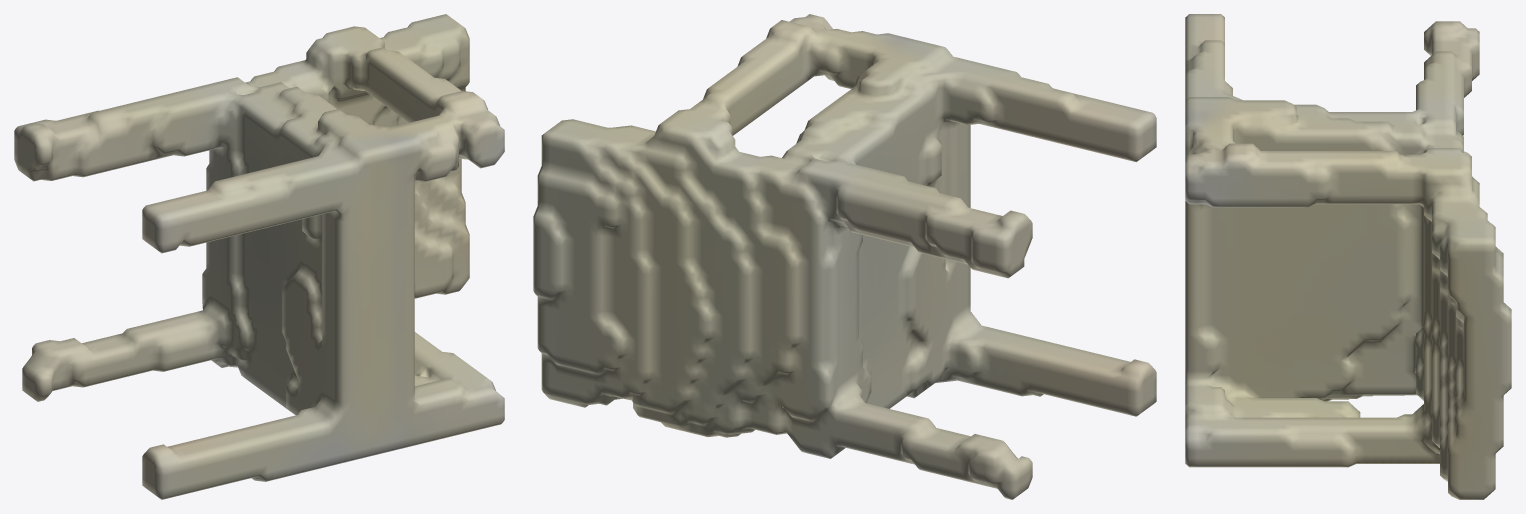
The model's file is Geometric white wood chair with silver armrests, y.glb.
3 renders of one model, left to right at view 1: azimuth 30°, elevation 25°; view 2: azimuth 150°, elevation 25°; view 3: azimuth 270°, elevation 25°, orthographic. The views are drawn at different scales.
Parts seen in each view (by area): view 1: Geometric white wood chair with silver armrests, y; view 2: Geometric white wood chair with silver armrests, y; view 3: Geometric white wood chair with silver armrests, y.
Boxes of the visible parts, x1,y1,x2,y2 form: Geometric white wood chair with silver armrests, y: [14, 14, 504, 499]; Geometric white wood chair with silver armrests, y: [533, 14, 1156, 499]; Geometric white wood chair with silver armrests, y: [1185, 14, 1511, 499].
Bounding box in the file's own units: 64 × 43 × 41.
